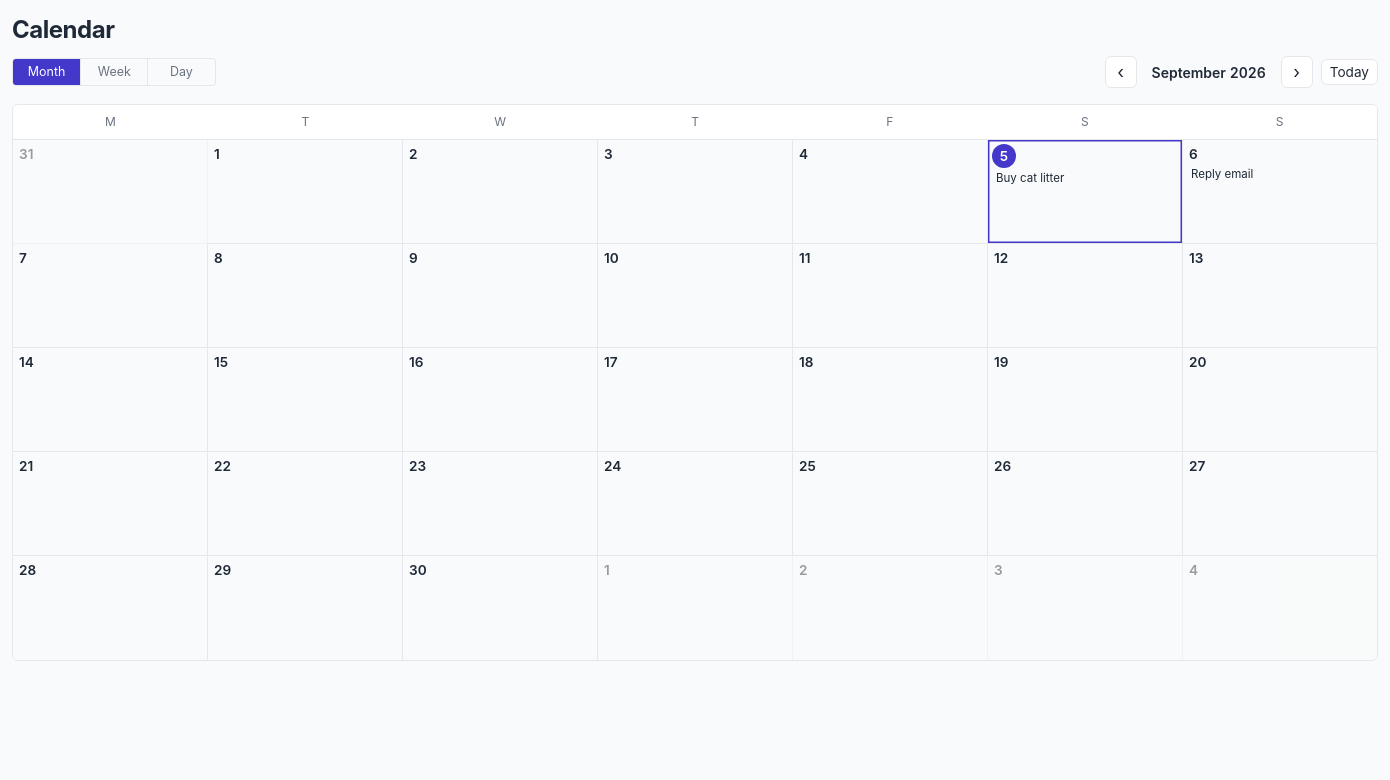
CalendarView › shows week columns in week mode
Step 1. Click the button "Week" → (114, 72), box [80,59,147,85]
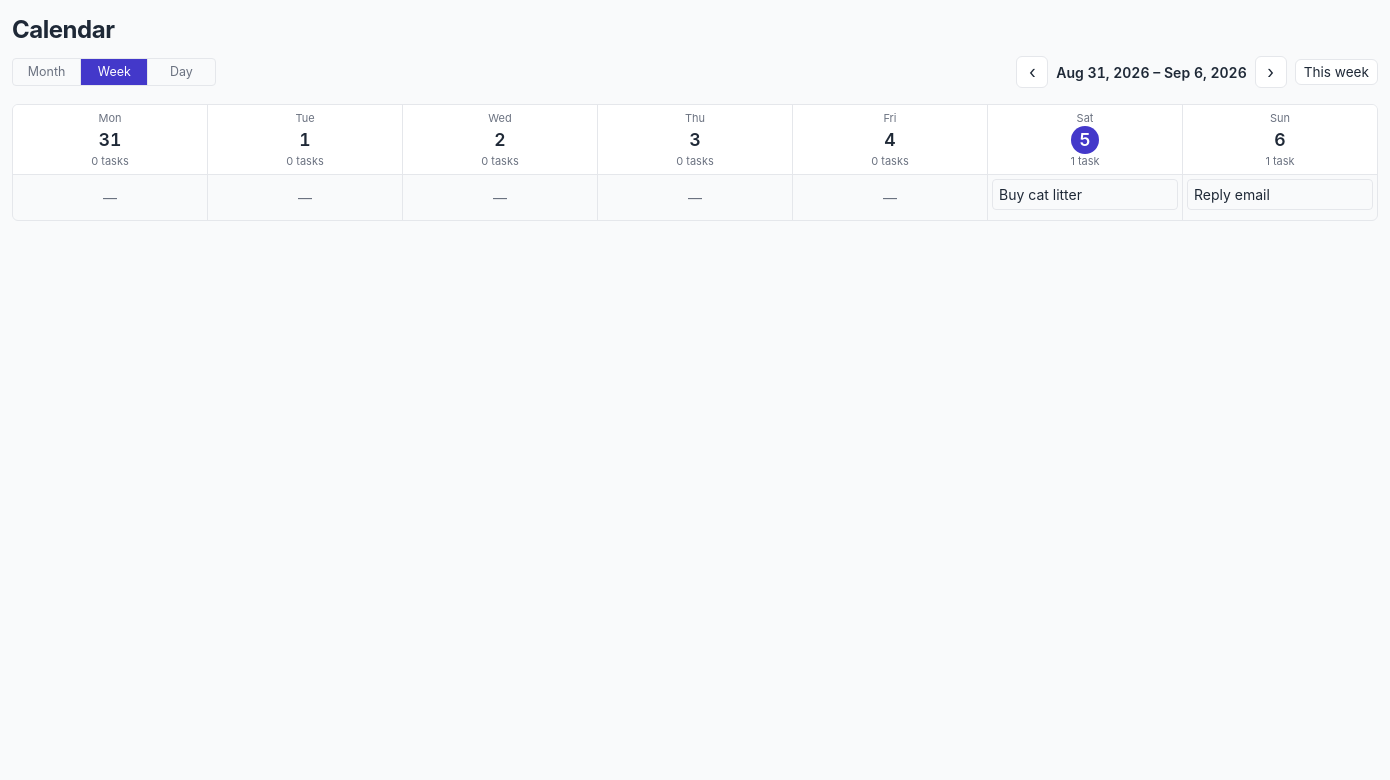
Check: the table named "week calendar" is shown, box [12,104,1378,221]
Check: the row with class "calendar-week-head-strip" is shown, box [13,105,1377,175]
Check: the row with class "calendar-week-body-strip" is shown, box [13,175,1377,220]
